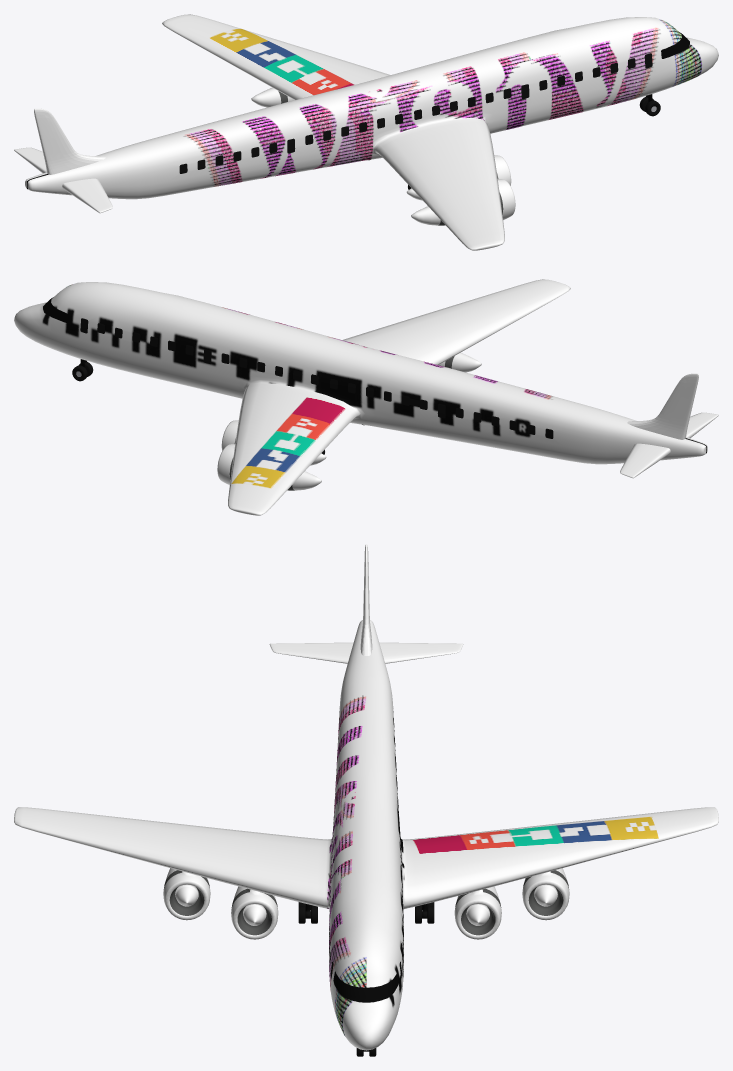
The model's file is wishy_plane.glb.
3 views of the same model, one above another, from view 1: azimuth 30°, elevation 25°; view 2: azimuth 150°, elevation 25°; view 3: azimuth 270°, elevation 25° (orthographic). The views are drawn at different scales.
Visible parts, largest first — view 1: 18.2.Airplane; view 2: 18.2.Airplane; view 3: 18.2.Airplane.
Boxes of the visible parts, bbox=[...] form: 18.2.Airplane: bbox=[14, 14, 718, 250]; 18.2.Airplane: bbox=[14, 279, 718, 515]; 18.2.Airplane: bbox=[14, 544, 718, 1056].
Size of the model in its own units: 90.29 by 19.31 by 70.95.
1 material, 1 textured.
